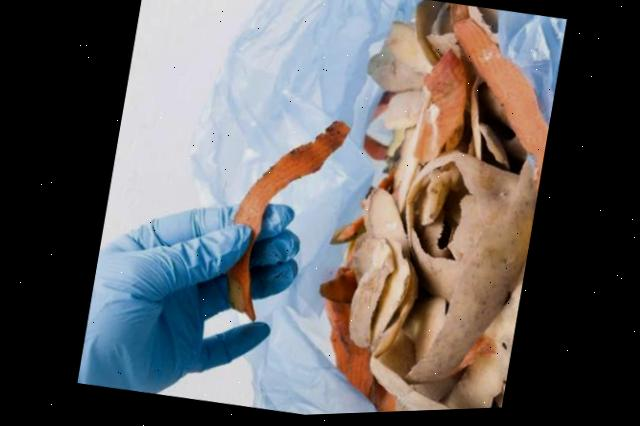Garbage: (328, 3, 547, 415)
